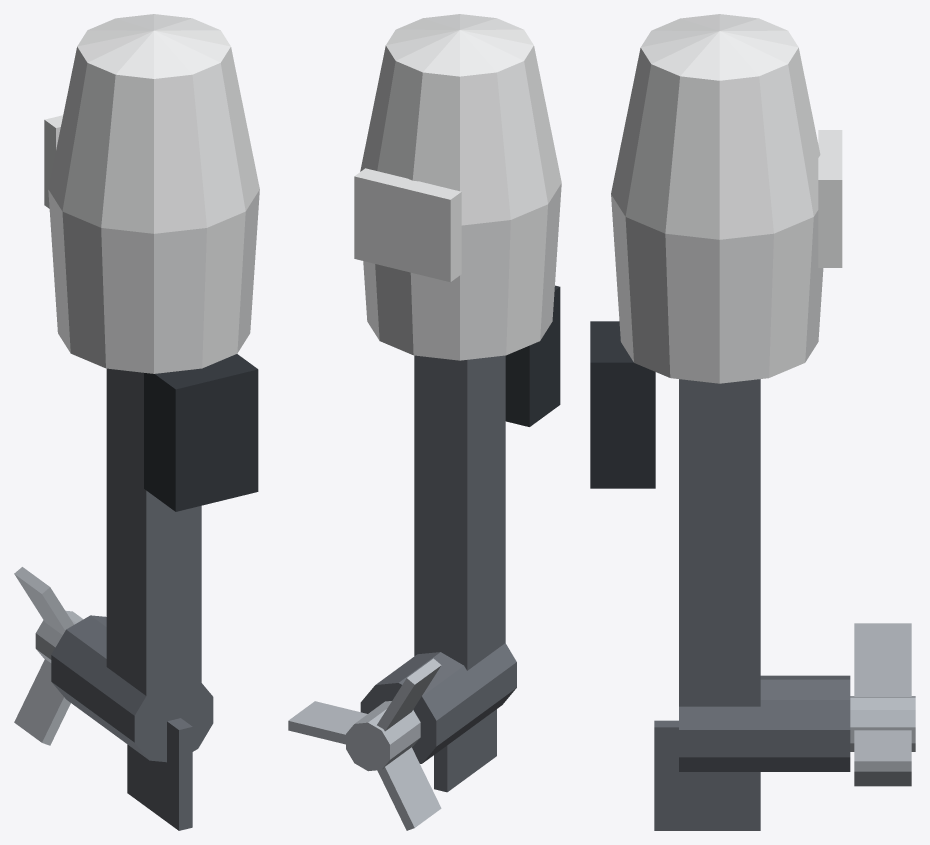
File: outboard_15.glb
3 renders of one model, left to right at view 1: azimuth 30°, elevation 25°; view 2: azimuth 150°, elevation 25°; view 3: azimuth 270°, elevation 25°, orthographic. The views are drawn at different scales.
Visible parts, largest first — view 1: model; view 2: model; view 3: model.
Boxes of the visible parts, x1,y1,x2,y2 form: model: (14,14,259,830); model: (288,14,561,830); model: (590,14,915,830).
Size of the model in its own units: 0.2661 by 1.08 by 0.3984.
1 material, 1 textured.
